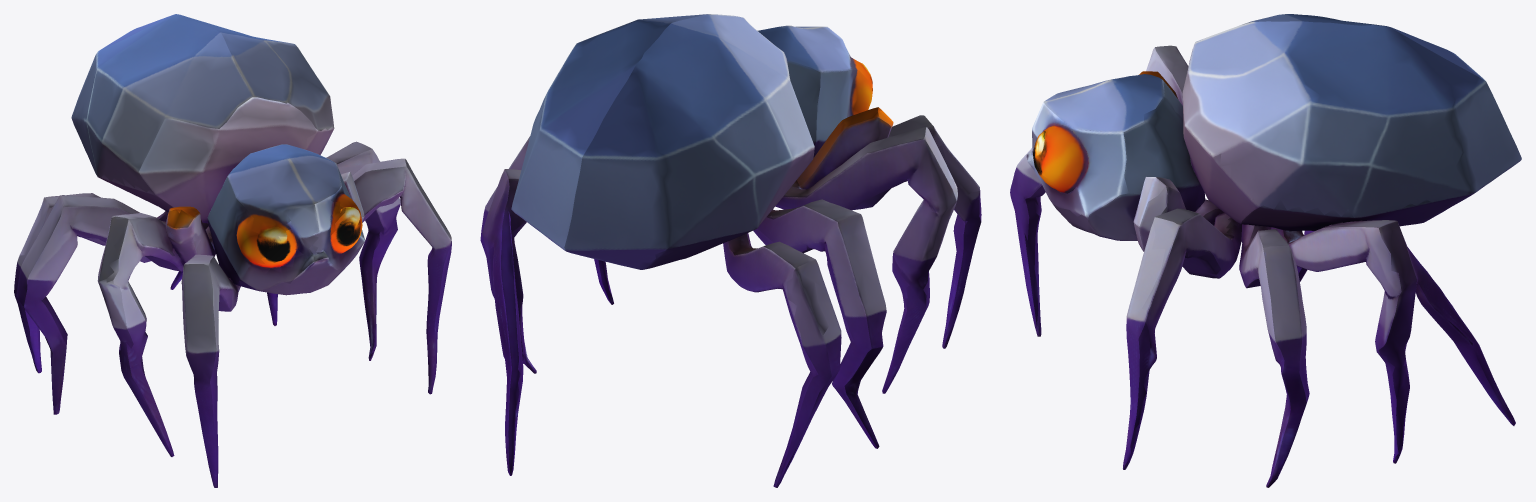
File: monster-spider.glb
The picture shows the model from 3 angles, left to right: view 1: azimuth 30°, elevation 25°; view 2: azimuth 150°, elevation 25°; view 3: azimuth 270°, elevation 25°; orthographic projection. The views are drawn at different scales.
Visible parts, largest first — view 1: world; view 2: world; view 3: world.
Part boxes in pixels (left/top/right/bottom): world: left=14, top=14, right=451, bottom=487; world: left=480, top=14, right=981, bottom=487; world: left=1010, top=14, right=1521, bottom=487.
Bounding box in the file's own units: 0.9145 × 0.8487 × 1.
1 material, 1 textured.
